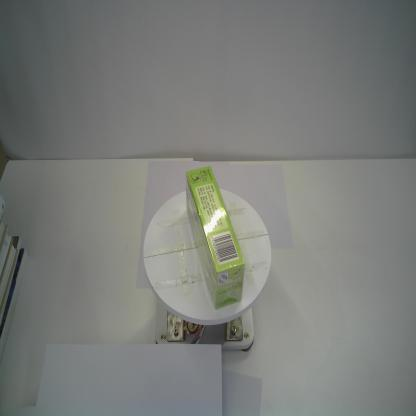Instant Drink: (186, 166, 244, 310)
